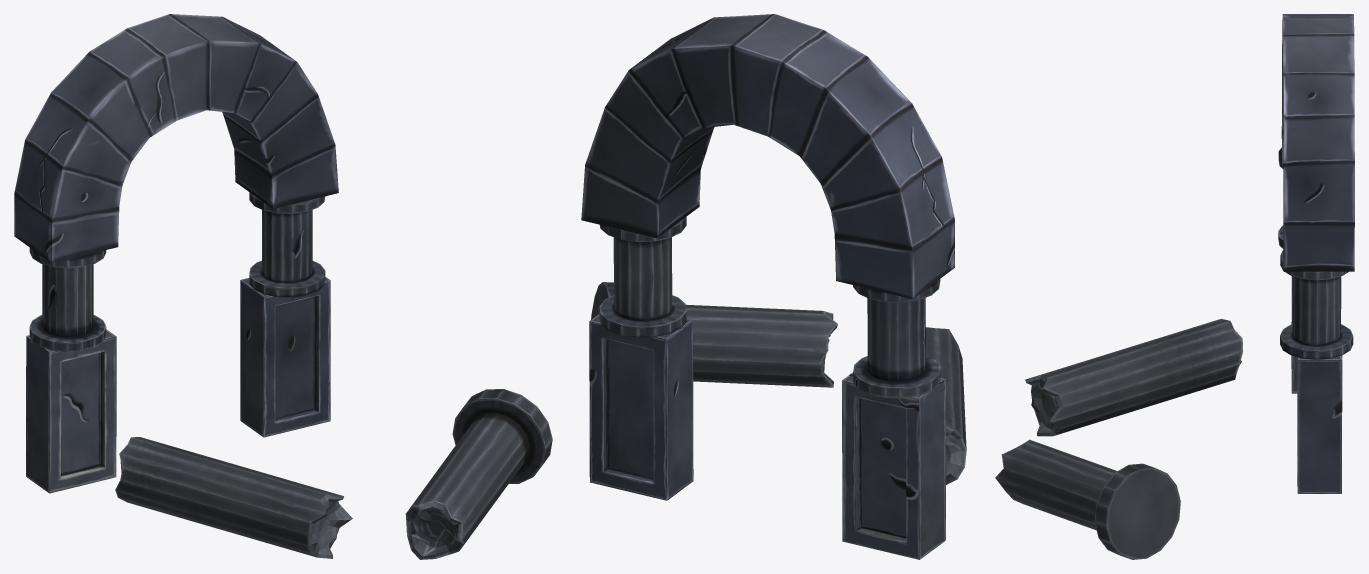
Rendered from sandAndStone_edit_for_FBX.fbx.
The picture shows the model from 3 angles, left to right: view 1: azimuth 30°, elevation 25°; view 2: azimuth 150°, elevation 25°; view 3: azimuth 270°, elevation 25°; orthographic projection. The views are drawn at different scales.
Visible parts, largest first — view 1: sandAndStone_01, sandAndStone_03, sandAndStone_02; view 2: sandAndStone_01, sandAndStone_02, sandAndStone_03; view 3: sandAndStone_01, sandAndStone_03, sandAndStone_02.
Part boxes in pixels (<box>): sandAndStone_01: <box>14,14,338,493</box>; sandAndStone_03: <box>115,437,352,558</box>; sandAndStone_02: <box>405,389,552,559</box>; sandAndStone_01: <box>581,14,954,559</box>; sandAndStone_02: <box>591,282,837,387</box>; sandAndStone_03: <box>925,327,966,484</box>; sandAndStone_01: <box>1278,14,1354,493</box>; sandAndStone_03: <box>1025,318,1242,436</box>; sandAndStone_02: <box>995,439,1180,559</box>.
Bounding box in the file's own units: 549 × 568 × 438.
